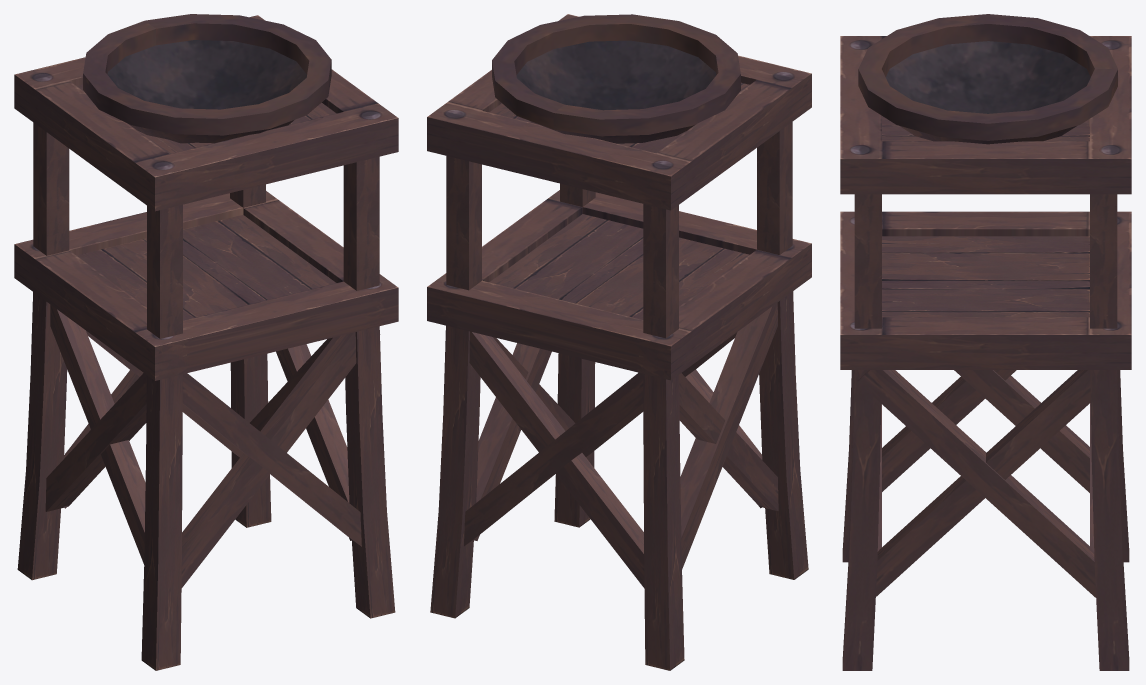
The model's file is Tower_b.FBX.
The picture shows the model from 3 angles, left to right: view 1: azimuth 30°, elevation 25°; view 2: azimuth 150°, elevation 25°; view 3: azimuth 270°, elevation 25°; orthographic projection. The views are drawn at different scales.
Visible parts, largest first — view 1: Box035; view 2: Box035; view 3: Box035.
Part boxes in pixels (x1,y1,x2,y2): Box035: (14, 14, 398, 670); Box035: (427, 14, 811, 670); Box035: (840, 14, 1131, 670).
Size of the model in its own units: 3.04 by 6.25 by 3.04.
1 material, 1 textured.
